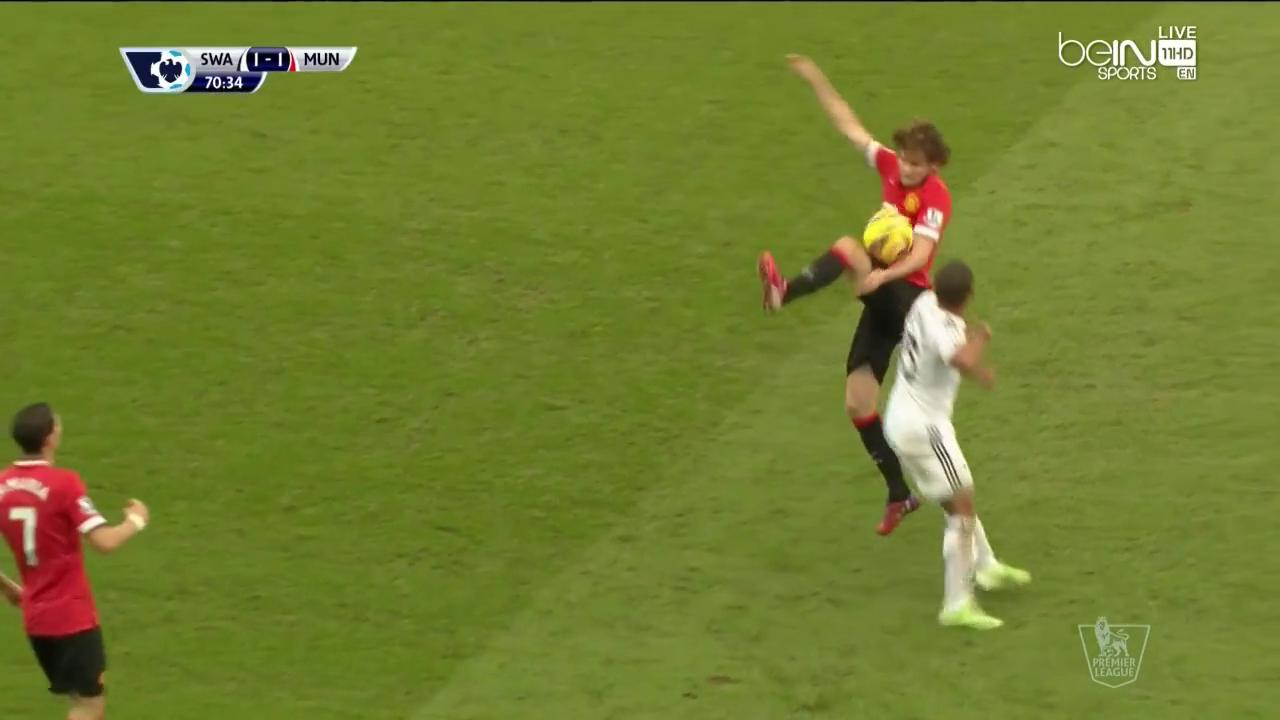football: (864, 210, 913, 264)
